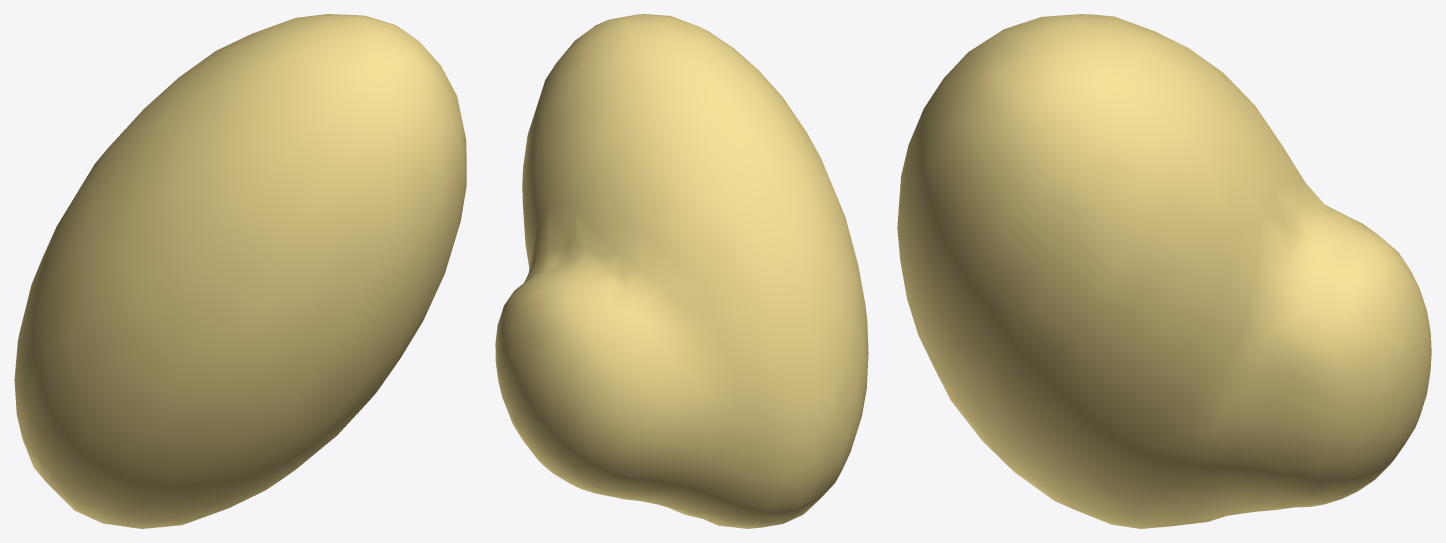
The model's file is fma73358_mm2966.glb.
3 views of the same model, side by side, from view 1: azimuth 30°, elevation 25°; view 2: azimuth 150°, elevation 25°; view 3: azimuth 270°, elevation 25° (orthographic). The views are drawn at different scales.
Parts seen in each view (by area): view 1: FMA73358_MM2966; view 2: FMA73358_MM2966; view 3: FMA73358_MM2966.
Part boxes in pixels (x1,y1,x2,y2): FMA73358_MM2966: (14,14,466,528); FMA73358_MM2966: (495,14,868,528); FMA73358_MM2966: (897,14,1431,528).
Size of the model in its own units: 0.00195 by 0.0024 by 0.00207.
